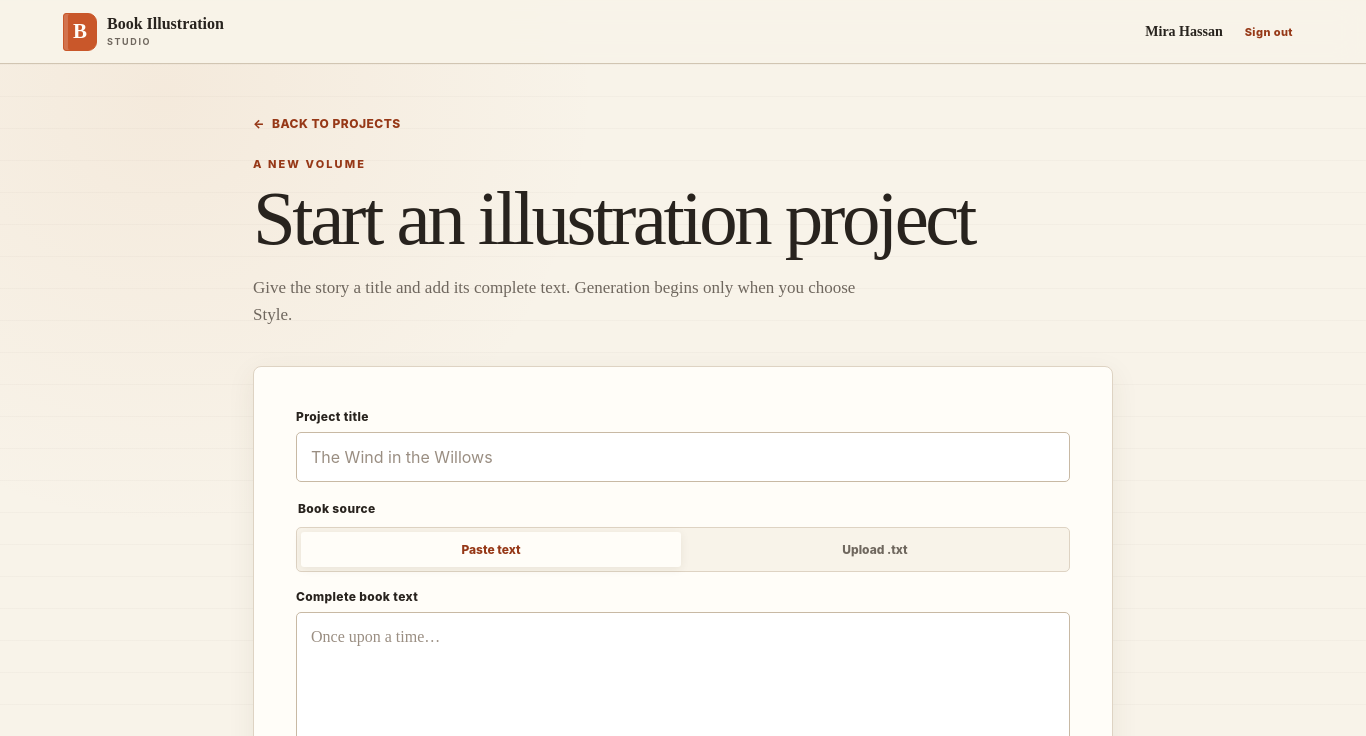
application flows › creates a pasted-text project with trimmed JSON and navigates to detail
Expected: the heading "Start an illustration project" is shown, [253,181,974,258]
Type "  A New Story  " into the field labelled "Project title". click: (683, 457)
box: [296,432,1070,482]
(page scrolled)
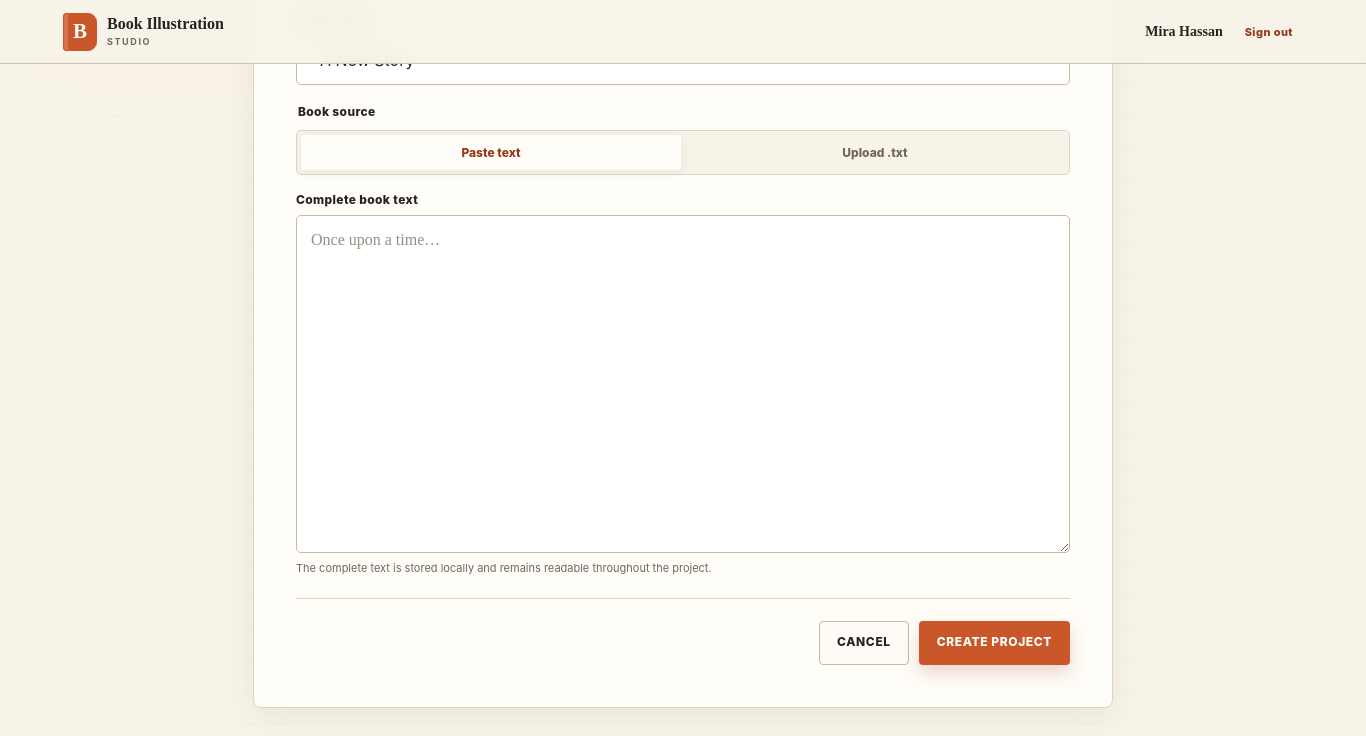
Type "  The whole story.  " into the text box labelled "Complete book text". click: (683, 384)
box: [296,215,1070,553]
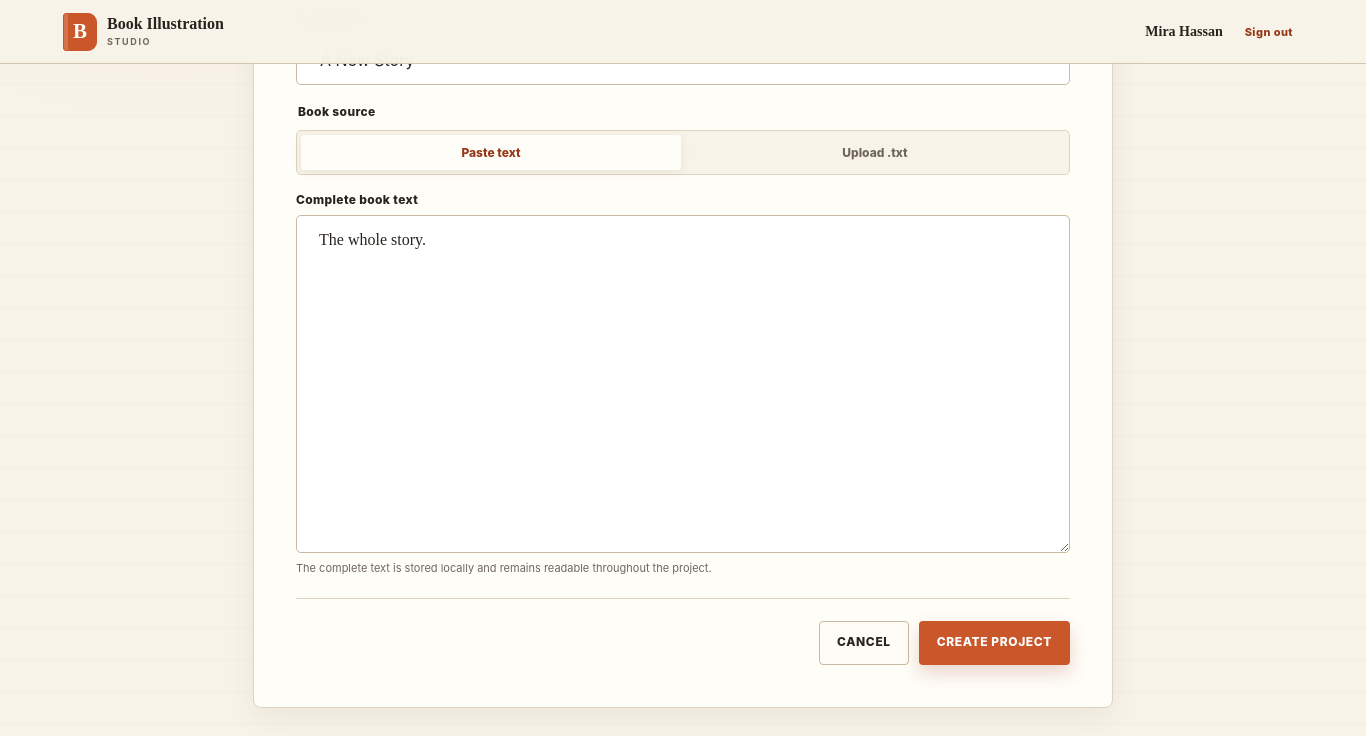
Click the button "Create project". click: (994, 643)
box: [919,621,1070,665]
(page scrolled)
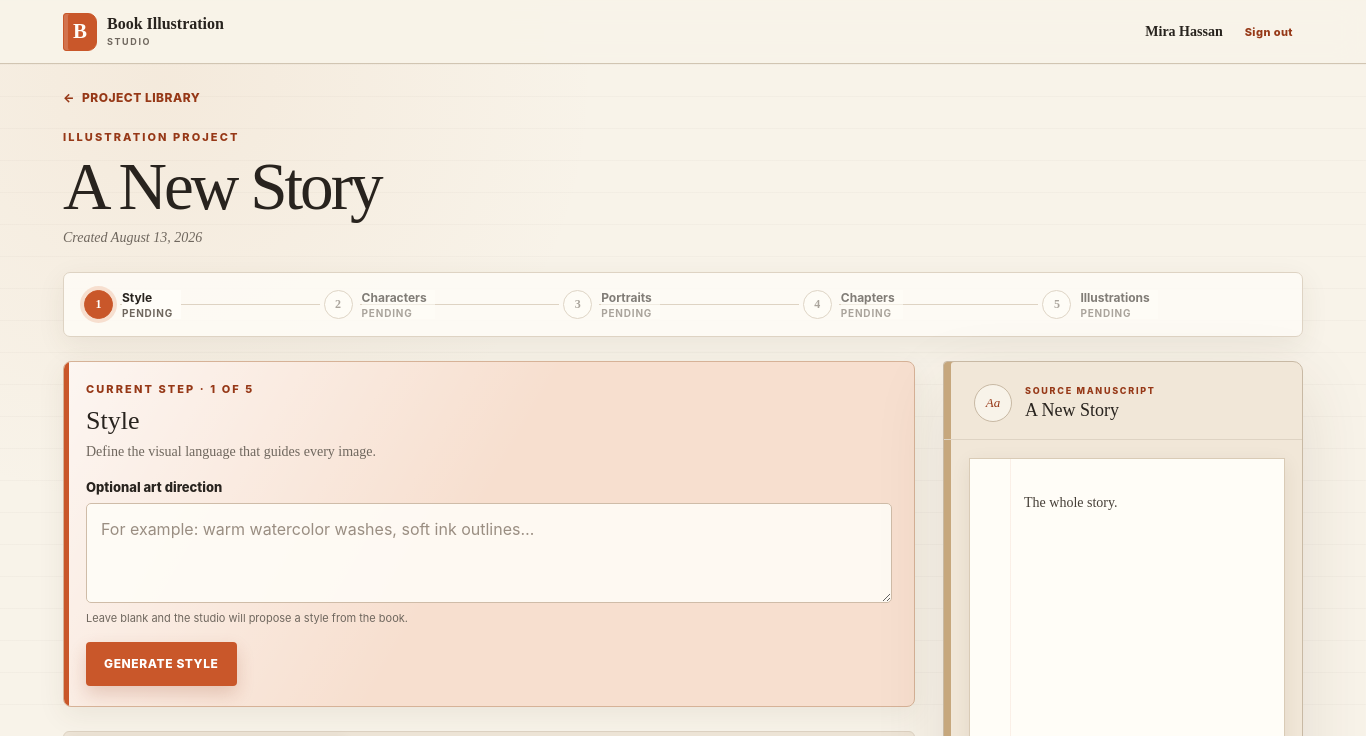
Result: the heading "A New Story" below "Illustration project" is shown at [63,154,381,220]
